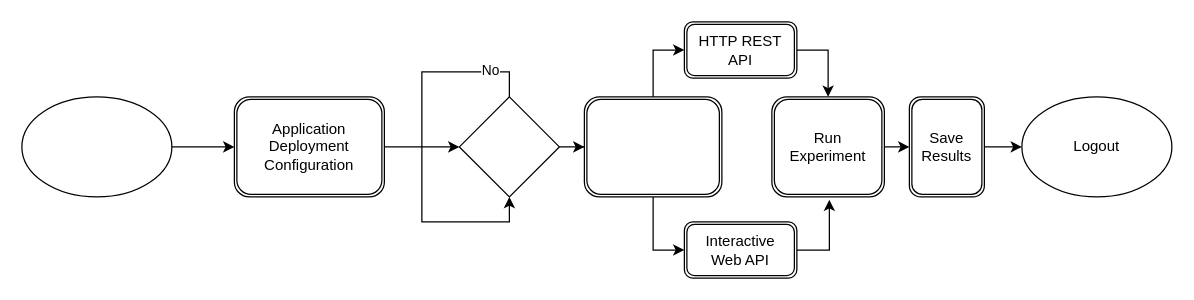
Some shapes in this 1194 by 300 pixel diagram are drawn without their labels. The centre of each missing label's shape, as x and y in pixels:
Build Application and Expose APIs: (652,146)
Login: (96,146)
Resource Available?: (508,146)
